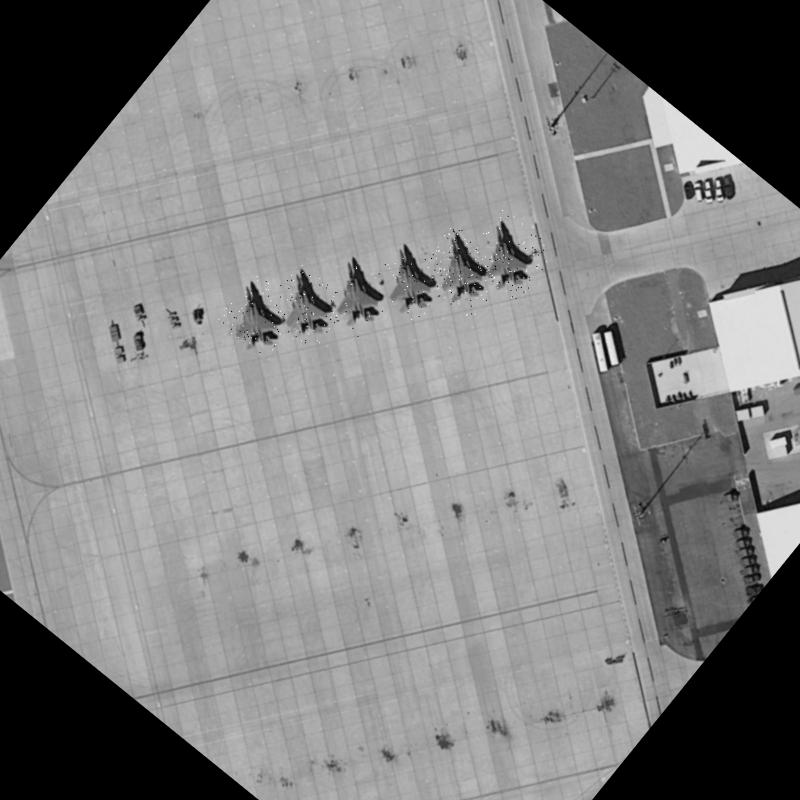A13: (412, 224, 512, 322), (460, 208, 557, 305), (213, 271, 304, 362), (260, 262, 352, 352), (312, 252, 400, 340), (366, 243, 448, 324)
